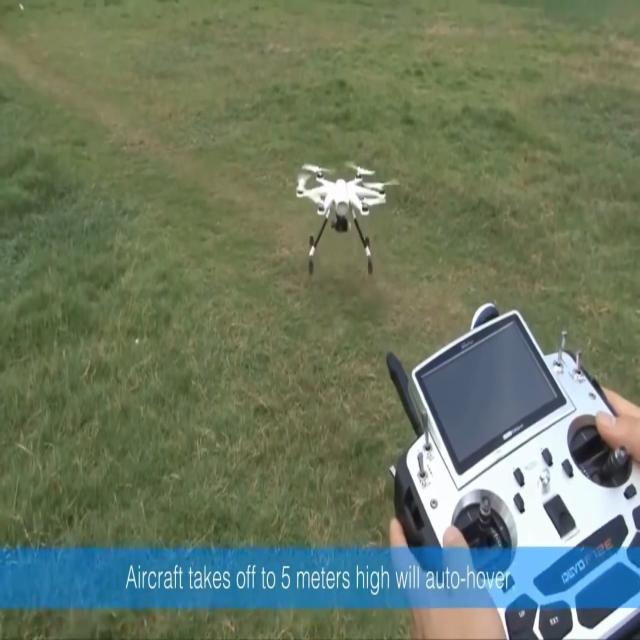drone: (296, 161, 400, 277)
